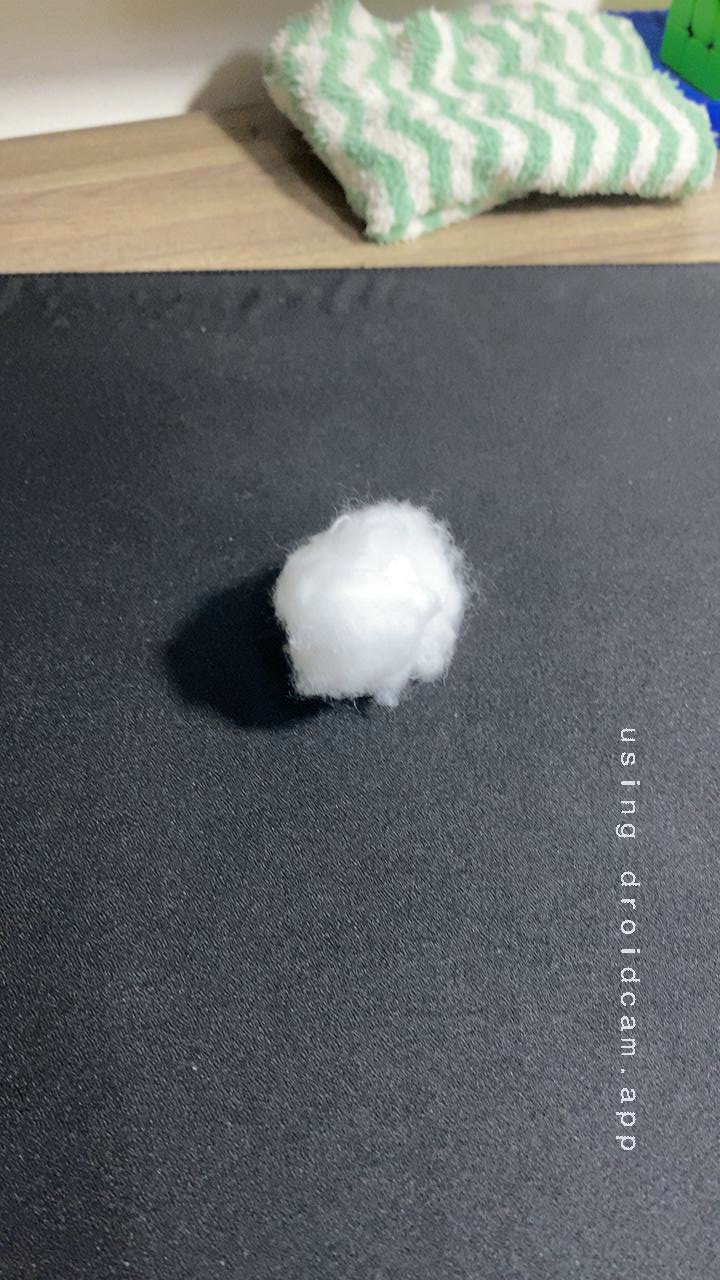cotton: (243, 477, 495, 724)
